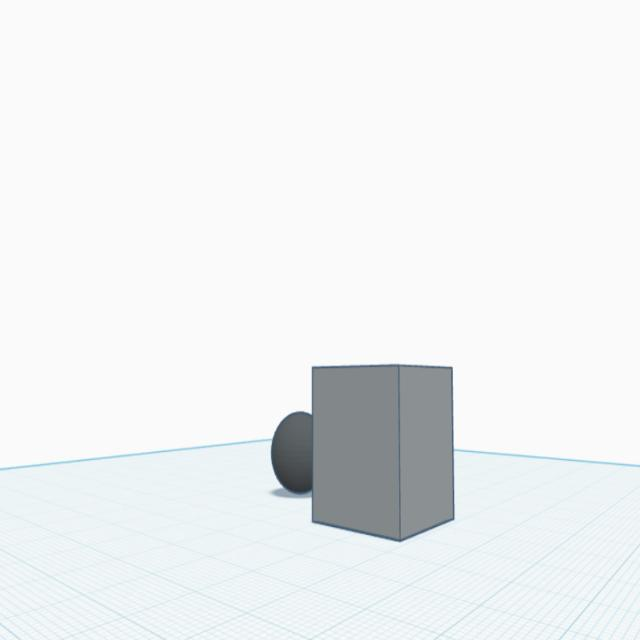cube: (306, 358, 458, 544)
